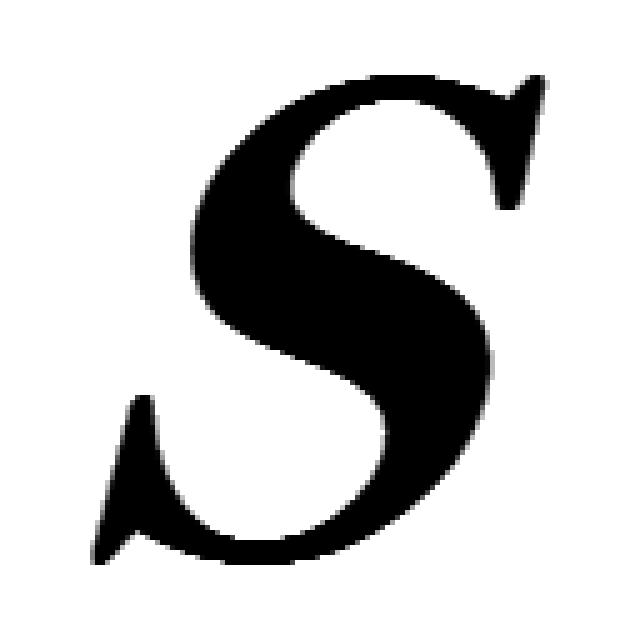S: (80, 60, 550, 570)
